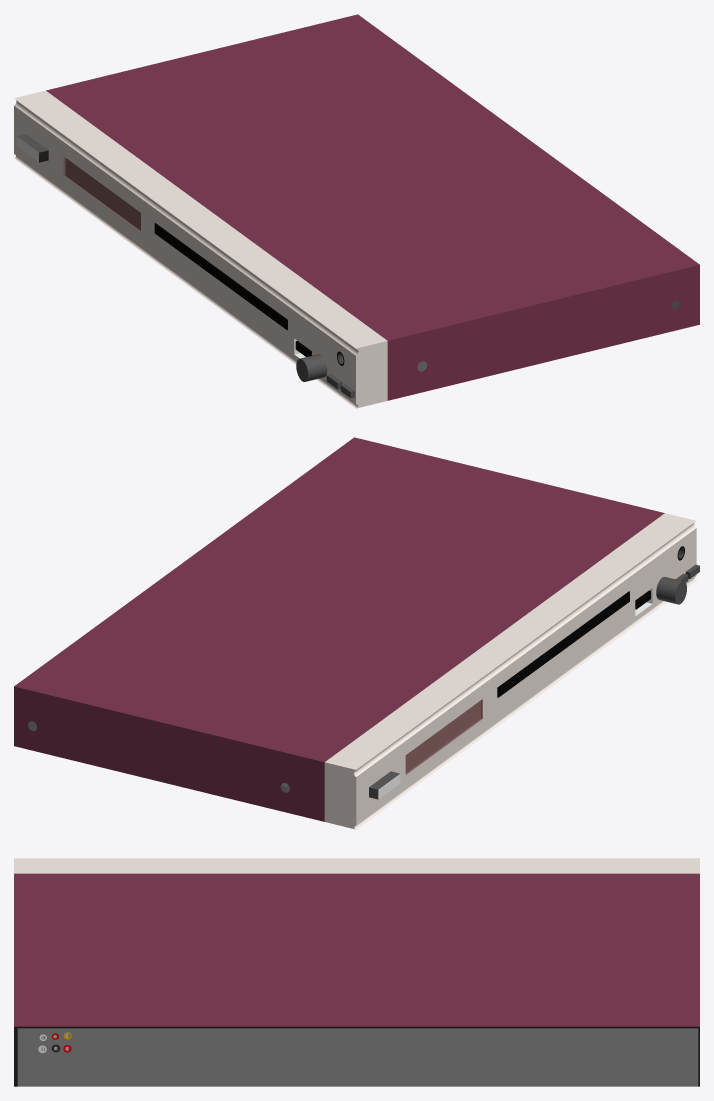
The model's file is dvd+para+mulhres.obj.
The picture shows the model from 3 angles, top to bottom: view 1: azimuth 30°, elevation 25°; view 2: azimuth 150°, elevation 25°; view 3: azimuth 270°, elevation 25°; orthographic projection.
Parts seen in each view (by area): view 1: Mesh1 Model; view 2: Mesh1 Model; view 3: Mesh1 Model.
Part boxes in pixels (bbox=[...]): Mesh1 Model: bbox=[14, 14, 699, 408]; Mesh1 Model: bbox=[14, 437, 699, 829]; Mesh1 Model: bbox=[14, 858, 699, 1086].
Bounding box in the file's own units: 7.48 × 1.18 × 12.2.
